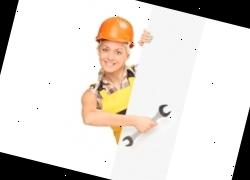helmet: (89, 8, 143, 50)
